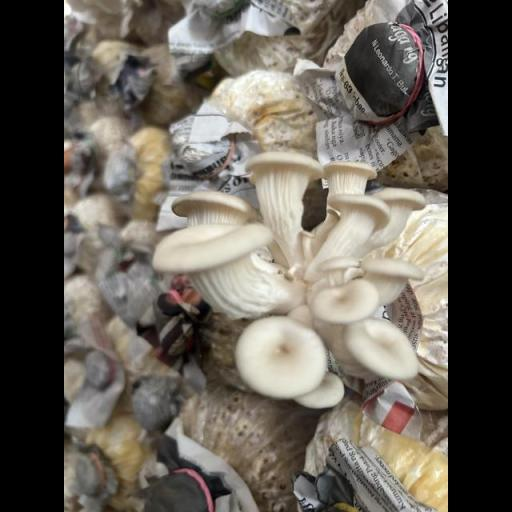White Oyster Mushroom: (141, 144, 435, 420)
